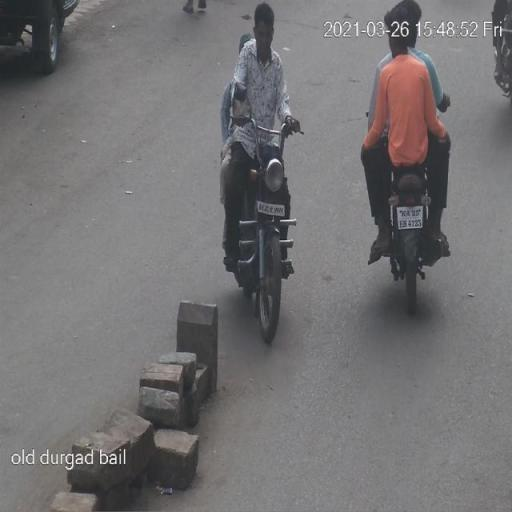tripple riding: (360, 0, 452, 176)
